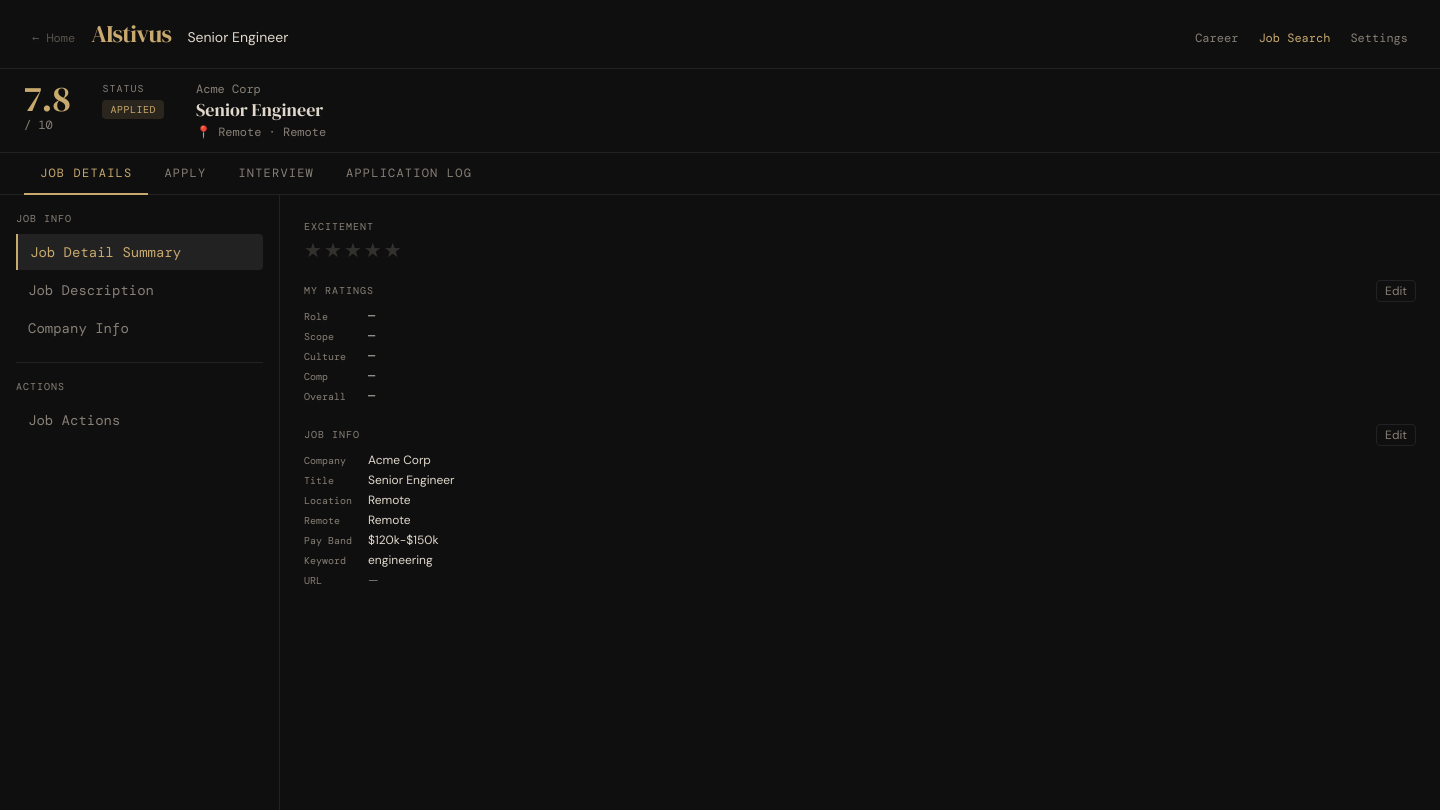
Test: JobDetailPage workspace › shows INTERVIEW stub card when that tab is active
// Click the tab button (not any other element with "Interview" text)
Click the button "Interview": click(276, 174) [222,152,330,194]
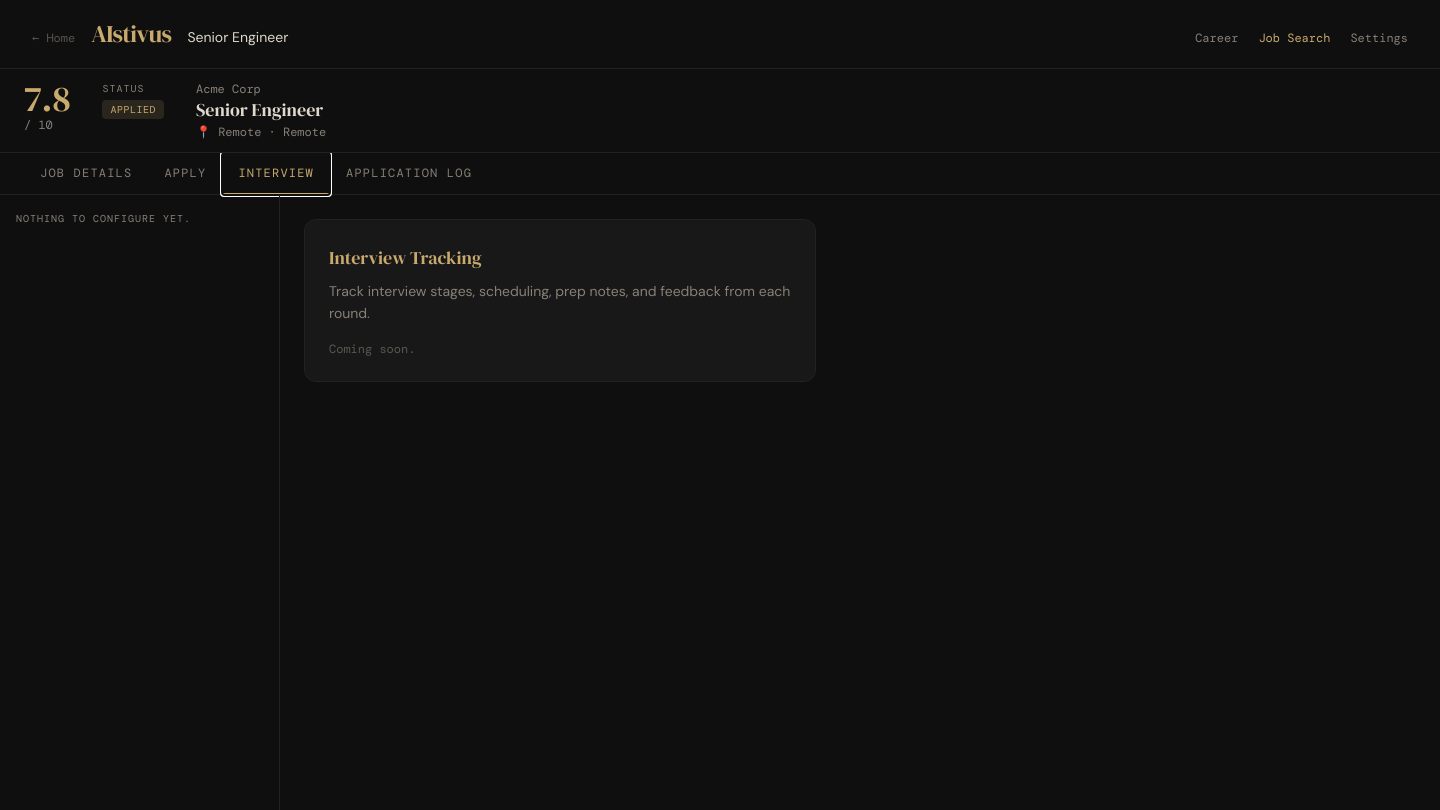
Check: the text "Interview Tracking" is shown, box [329,244,482,270]
Check: the text "Coming soon." is shown, box [329,341,415,357]
